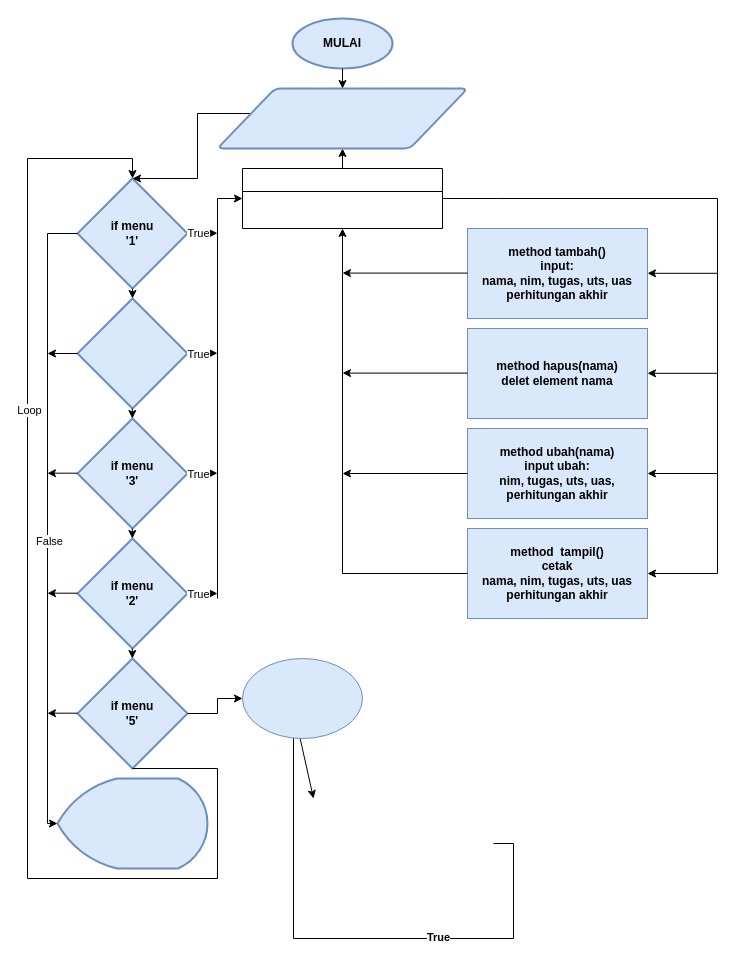
Image size: 743x964. Some labels were removed from this diagram. Each missing label, with the centre of its shape:
"PILIHAN TIDAK ADA": point (132, 823)
class mahasiswa: point (342, 198)
dataMahasiswa: point (342, 118)
if menu '4': point (132, 353)
SELESAI: point (302, 698)
